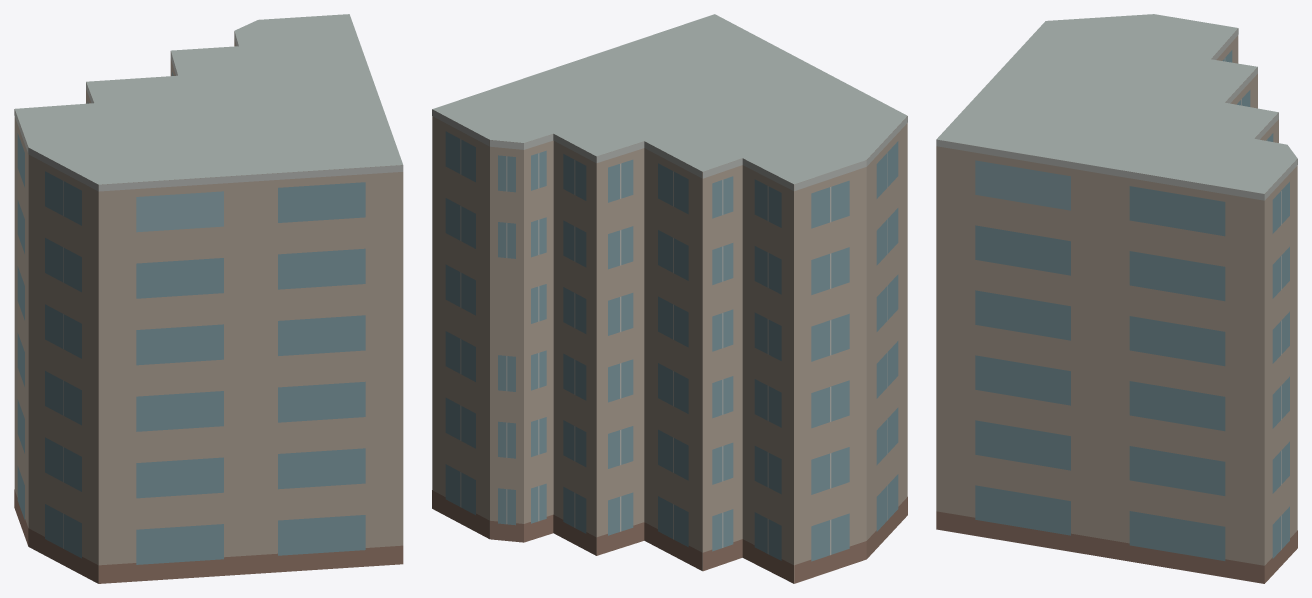
File: survey-upis-32717014.glb
3 renders of one model, left to right at view 1: azimuth 30°, elevation 25°; view 2: azimuth 150°, elevation 25°; view 3: azimuth 270°, elevation 25°, orthographic. The views are drawn at different scales.
Visible parts, largest first — view 1: survey-upis-32717014.tmp; view 2: survey-upis-32717014.tmp; view 3: survey-upis-32717014.tmp.
Boxes of the visible parts, x1,y1,x2,y2 form: survey-upis-32717014.tmp: [14, 14, 403, 583]; survey-upis-32717014.tmp: [432, 14, 907, 583]; survey-upis-32717014.tmp: [936, 14, 1297, 583].
Size of the model in its own units: 14.07 by 14.2 by 11.94.
